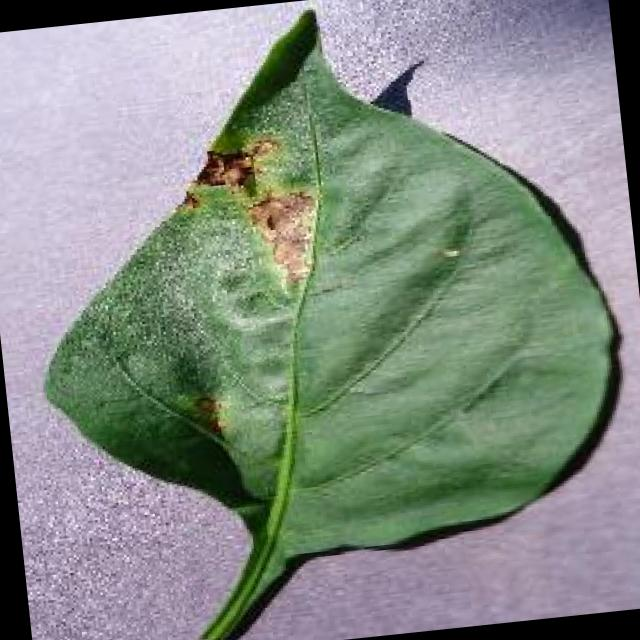Chilli_Bacterial_Spot: (3, 0, 640, 640), (155, 122, 353, 510), (173, 124, 329, 300), (238, 182, 326, 295), (206, 253, 296, 339), (183, 128, 284, 203), (188, 140, 258, 198), (241, 190, 288, 240), (187, 388, 230, 442), (240, 130, 284, 170), (432, 239, 464, 265), (256, 206, 281, 236)
